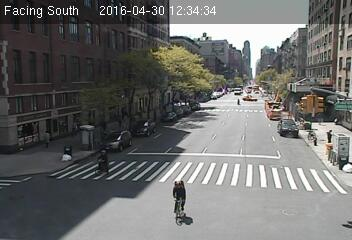neg: (160, 176, 197, 225), (90, 148, 112, 178), (152, 114, 174, 143), (237, 158, 255, 182), (273, 114, 288, 134), (93, 98, 106, 115), (279, 74, 288, 86), (207, 64, 215, 75), (57, 73, 64, 83), (95, 63, 100, 69)
pos: (39, 130, 54, 149), (323, 127, 336, 145), (233, 95, 241, 106)
